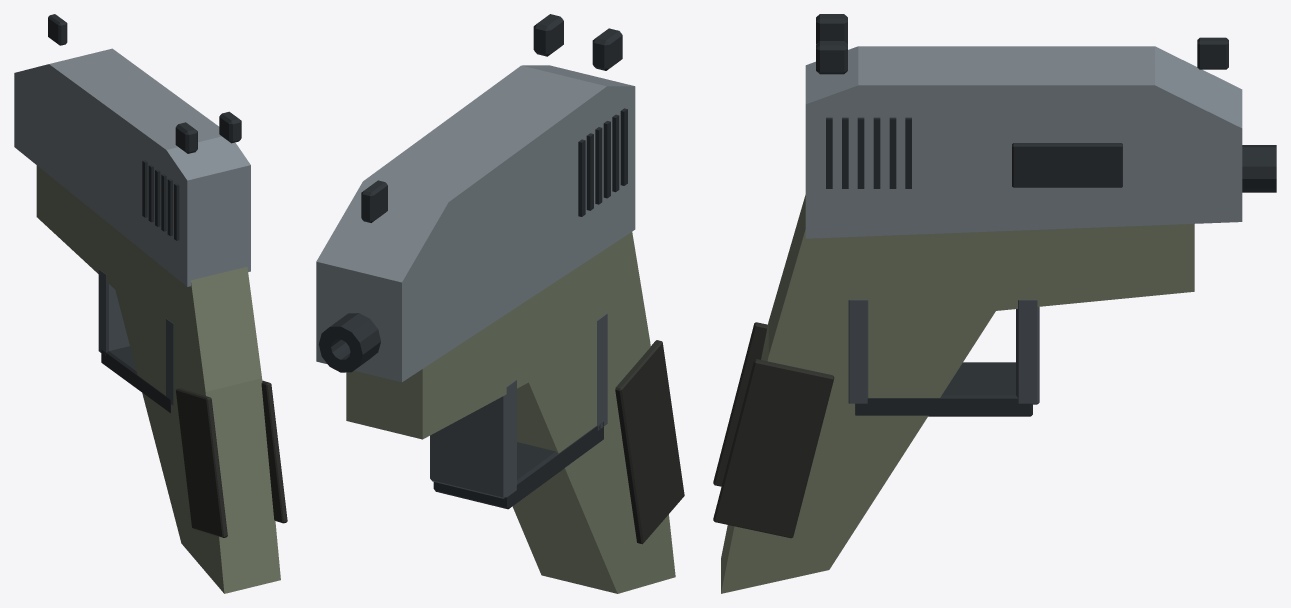
Rendered from weapon_raven9.glb.
The picture shows the model from 3 angles, left to right: view 1: azimuth 30°, elevation 25°; view 2: azimuth 150°, elevation 25°; view 3: azimuth 270°, elevation 25°; orthographic projection. The views are drawn at different scales.
Visible parts, largest first — view 1: Geometry_weapon_raven9; view 2: Geometry_weapon_raven9; view 3: Geometry_weapon_raven9.
Part boxes in pixels (<box>): Geometry_weapon_raven9: <box>14,14,287,593</box>; Geometry_weapon_raven9: <box>316,14,684,593</box>; Geometry_weapon_raven9: <box>713,14,1276,593</box>.
Bounding box in the file's own units: 0.0387 × 0.228 × 0.2128.
